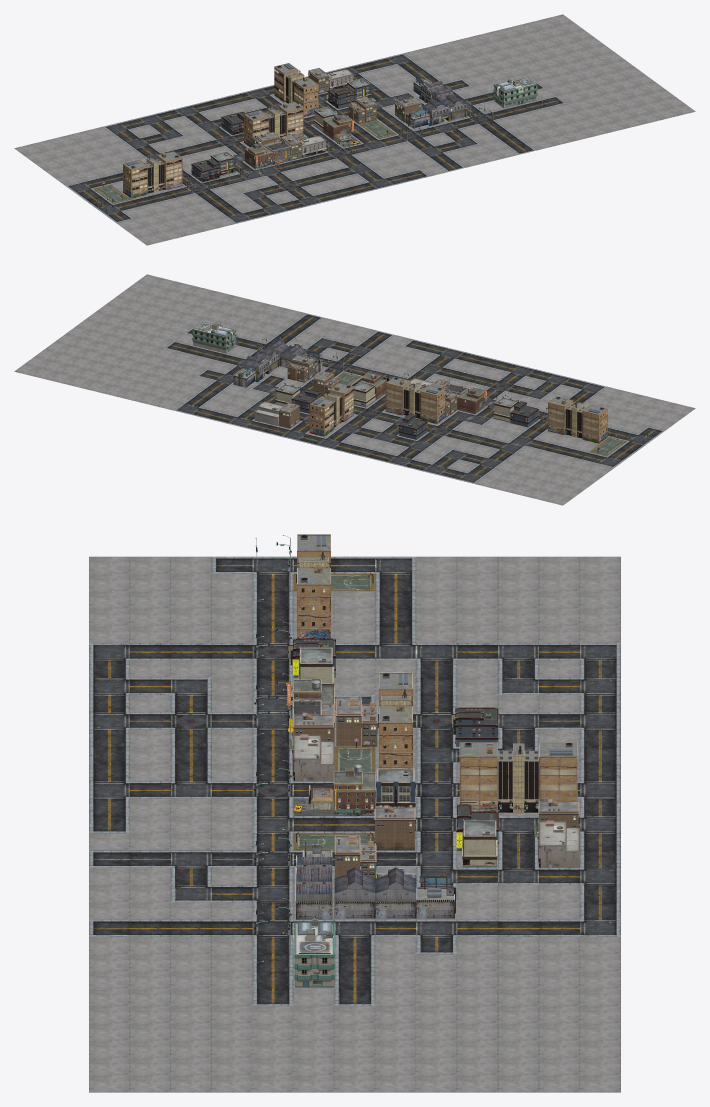
3 views of the same model, one above another, from view 1: azimuth 30°, elevation 25°; view 2: azimuth 150°, elevation 25°; view 3: azimuth 270°, elevation 25° (orthographic). The views are drawn at different scales.
Parts seen in each view (by area): view 1: BD_ConcreteBlock1, LM_Clinic2, pasted__pCube20_LMProjects_0.002, pasted__pCube27, pasted__pCube27_LMProjects_0.001, Filler_Apartments2, pasted__pCube20, pasted__pCube20_LMProjects_0.001, Filler_Apartments2_FillerBuildings1_0.002, Filler_Apartments2_FillerBuildings1_0.001, pasted__pCube27_LMProjects_0.002, LM_Basketball10 (+1 smaller); view 2: BD_ConcreteBlock1, LM_Clinic2, pasted__pCube27, pasted__pCube27_LMProjects_0.001, pasted__pCube27_LMProjects_0.002, pasted__pCube20_LMProjects_0.001, Filler_Apartments2_FillerBuildings1_0.001, Filler_Apartments2, pasted__pCube20, pasted__pCube20_LMProjects_0.002, Filler_Apartments2_FillerBuildings1_0.002, LM_Basketball9; view 3: BD_ConcreteBlock1, LM_Clinic2, pasted__pCube20_LMProjects_0.002, pasted__pCube27_LMProjects_0.002, pasted__pCube20_LMProjects_0.001, pasted__pCube20, Filler_Apartments2_FillerBuildings1_0.001, Filler_SalsT8_group8_pCube11, pasted__pCube2_FishFactory_0.001, pasted__pCube3_FishFactory_0.001, pasted__pCube1_FishFactory_0.001, LM_Basketball11 (+7 smaller).
Part boxes in pixels (box(x1,y1,x2,y2)): BD_ConcreteBlock1: box(14, 14, 695, 245); LM_Clinic2: box(493, 76, 537, 107); pasted__pCube20_LMProjects_0.002: box(294, 77, 318, 109); pasted__pCube27: box(123, 159, 147, 191); pasted__pCube27_LMProjects_0.001: box(244, 110, 269, 141); Filler_Apartments2: box(191, 158, 219, 182); pasted__pCube20: box(157, 151, 182, 183); pasted__pCube20_LMProjects_0.001: box(278, 101, 303, 133); Filler_Apartments2_FillerBuildings1_0.002: box(326, 86, 356, 108); Filler_Apartments2_FillerBuildings1_0.001: box(221, 111, 245, 135); pasted__pCube27_LMProjects_0.002: box(274, 63, 298, 95); LM_Basketball10: box(359, 117, 396, 138); BD_ConcreteBlock1: box(14, 274, 695, 505); LM_Clinic2: box(192, 321, 236, 353); pasted__pCube27: box(582, 404, 607, 436); pasted__pCube27_LMProjects_0.001: box(420, 385, 445, 417); pasted__pCube27_LMProjects_0.002: box(309, 397, 333, 429); pasted__pCube20_LMProjects_0.001: box(385, 376, 410, 408); Filler_Apartments2_FillerBuildings1_0.001: box(398, 413, 427, 439); Filler_Apartments2: box(510, 401, 539, 427); pasted__pCube20: box(548, 396, 573, 428); pasted__pCube20_LMProjects_0.002: box(329, 383, 353, 415); Filler_Apartments2_FillerBuildings1_0.002: box(291, 389, 320, 413); LM_Basketball9: box(589, 434, 626, 456); BD_ConcreteBlock1: box(89, 556, 620, 1092); LM_Clinic2: box(293, 918, 334, 987); pasted__pCube20_LMProjects_0.002: box(459, 742, 497, 800); pasted__pCube27_LMProjects_0.002: box(539, 742, 577, 800); pasted__pCube20_LMProjects_0.001: box(379, 706, 412, 766); pasted__pCube20: box(297, 568, 330, 628); Filler_Apartments2_FillerBuildings1_0.001: box(451, 707, 498, 746); Filler_SalsT8_group8_pCube11: box(375, 821, 414, 850); pasted__pCube2_FishFactory_0.001: box(334, 893, 375, 918); pasted__pCube3_FishFactory_0.001: box(375, 893, 416, 918); pasted__pCube1_FishFactory_0.001: box(416, 887, 454, 918); LM_Basketball11: box(334, 738, 375, 772).
Bounding box in the file's own units: 55800 × 3186 × 23400.
22 materials, 18 textured.
